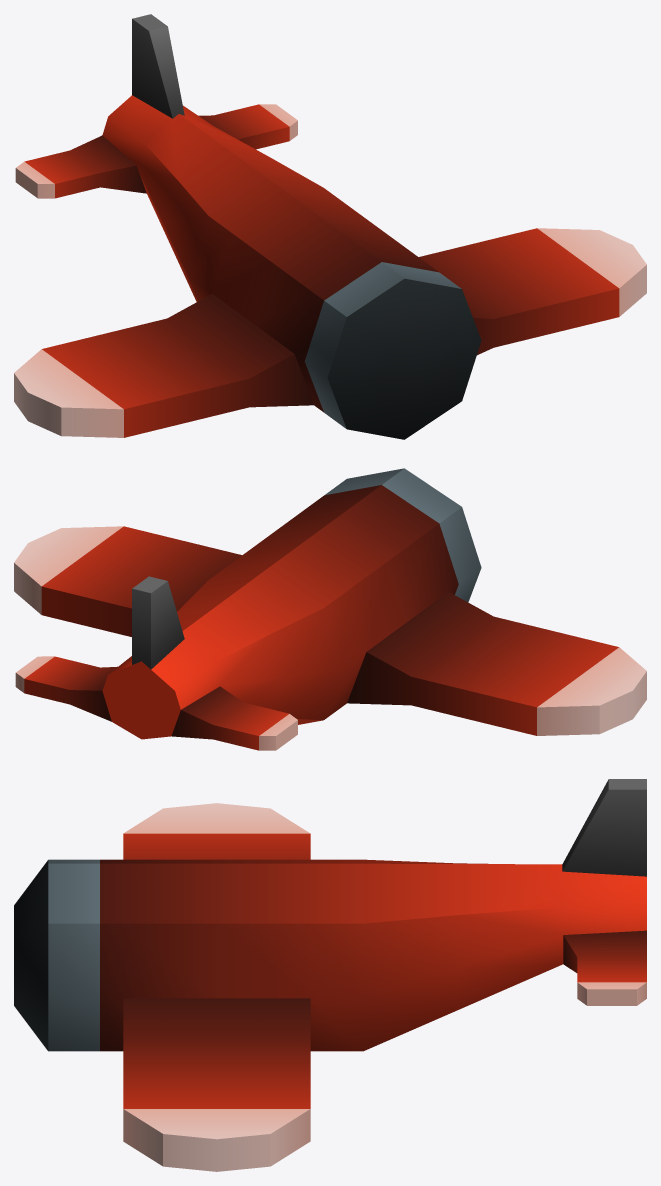
File: TestPlane01.fbx
The picture shows the model from 3 angles, top to bottom: view 1: azimuth 30°, elevation 25°; view 2: azimuth 150°, elevation 25°; view 3: azimuth 270°, elevation 25°; orthographic projection. The views are drawn at different scales.
Visible parts, largest first — view 1: Cube; view 2: Cube; view 3: Cube.
Boxes of the visible parts, <box> form: Cube: <box>14,14,646,439</box>; Cube: <box>14,468,646,750</box>; Cube: <box>14,779,646,1171</box>.
Bounding box in the file's own units: 1.57 × 0.573 × 1.25.
1 material, 1 textured.
